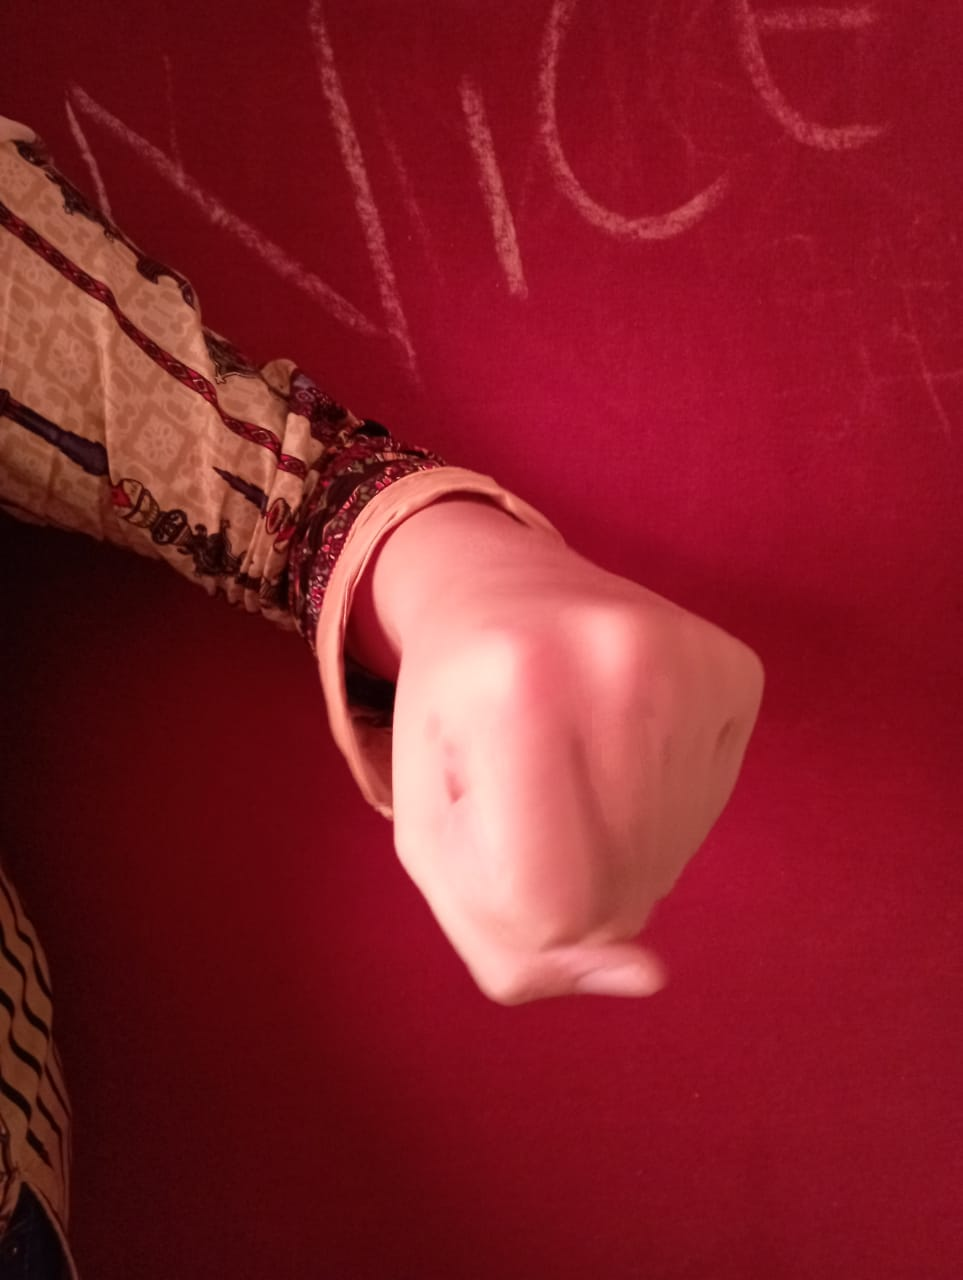BroCode: (376, 592, 772, 1017)
